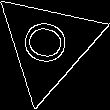O_E: (19, 18, 77, 71)
